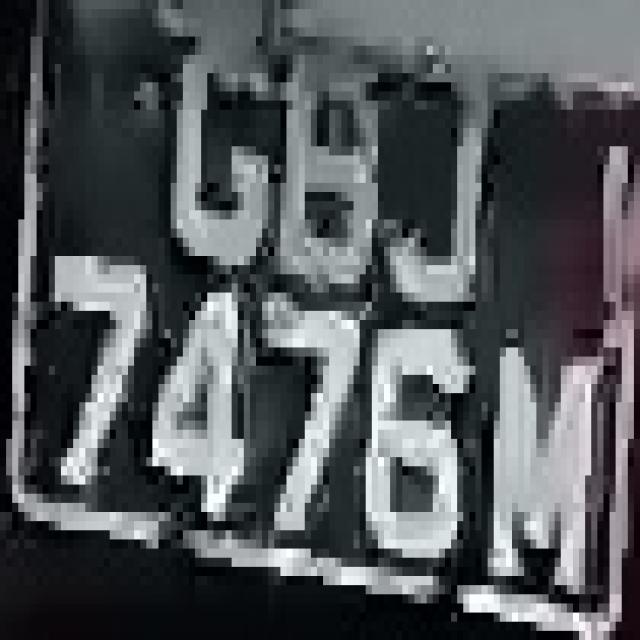4: (134, 256, 256, 558)
6: (354, 293, 476, 594)
7: (37, 210, 146, 512), (243, 265, 359, 540)
B: (262, 28, 390, 338)
G: (152, 28, 305, 292)
J: (384, 55, 500, 329)
M: (469, 302, 604, 594)
